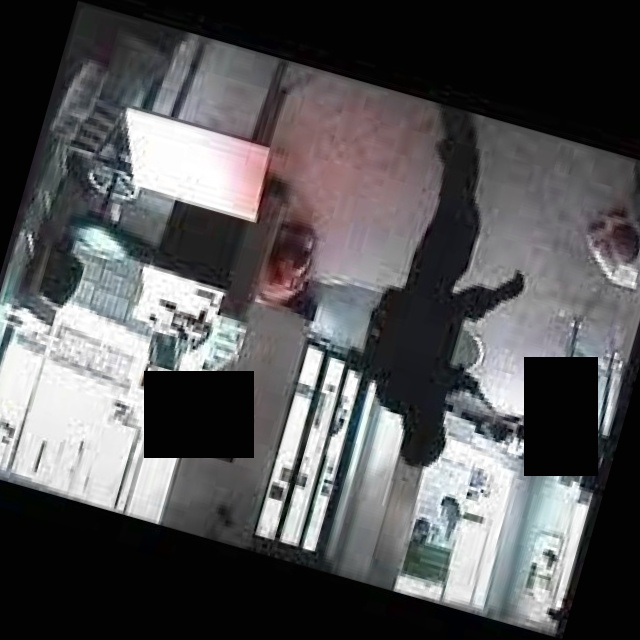gun: (458, 380, 516, 437)
